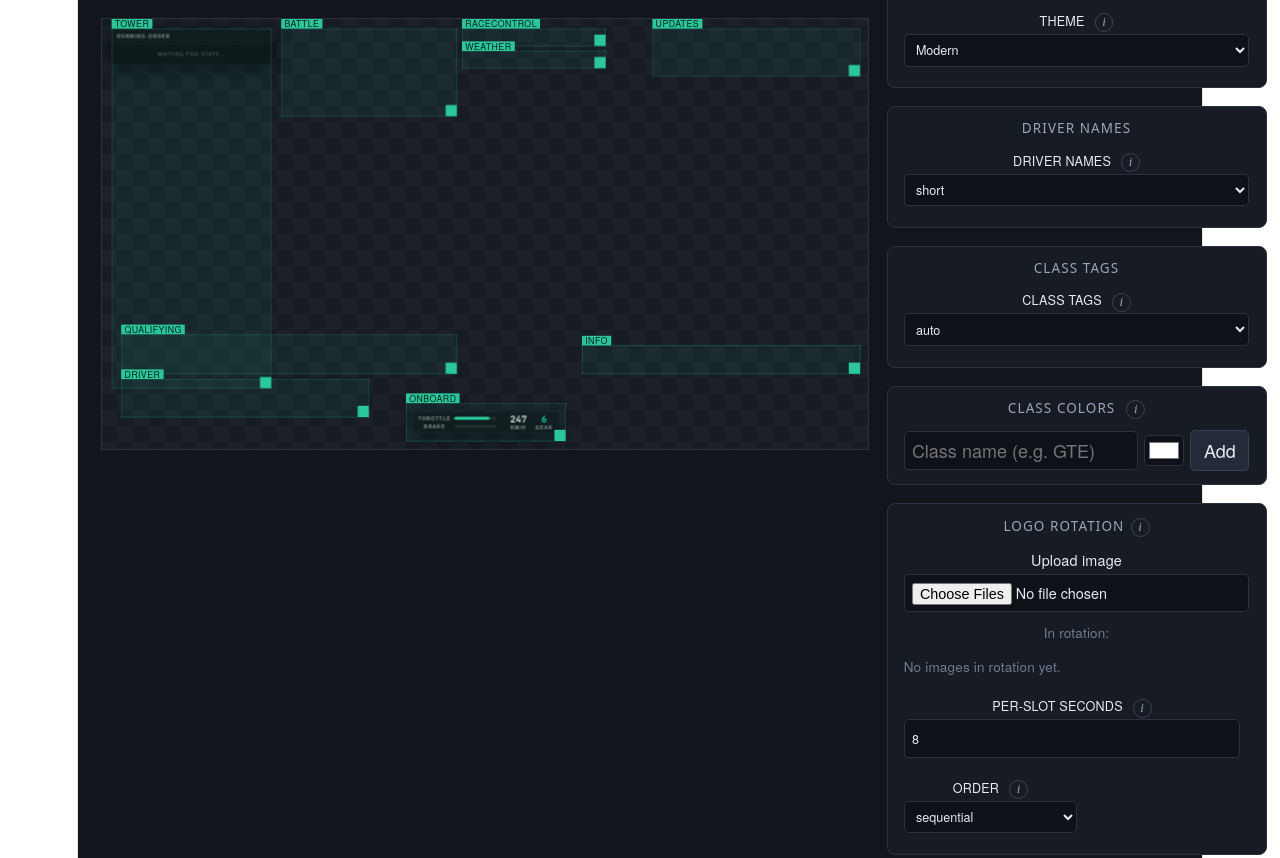
Test: config editor: class color overrides — freeform, no seeded rows › adding a class none of the five curated classes cover produces a row
(page scrolled)
Expected: the colour field with test id "class-color-new-picker" is shown, [1144,435,1184,466]
Expected: the button with test id "class-color-add" showing "Add" is shown, [1190,430,1249,471]
In the field with test id "class-color-new-name": (1021, 450) [904,431,1138,470], type "GTE"
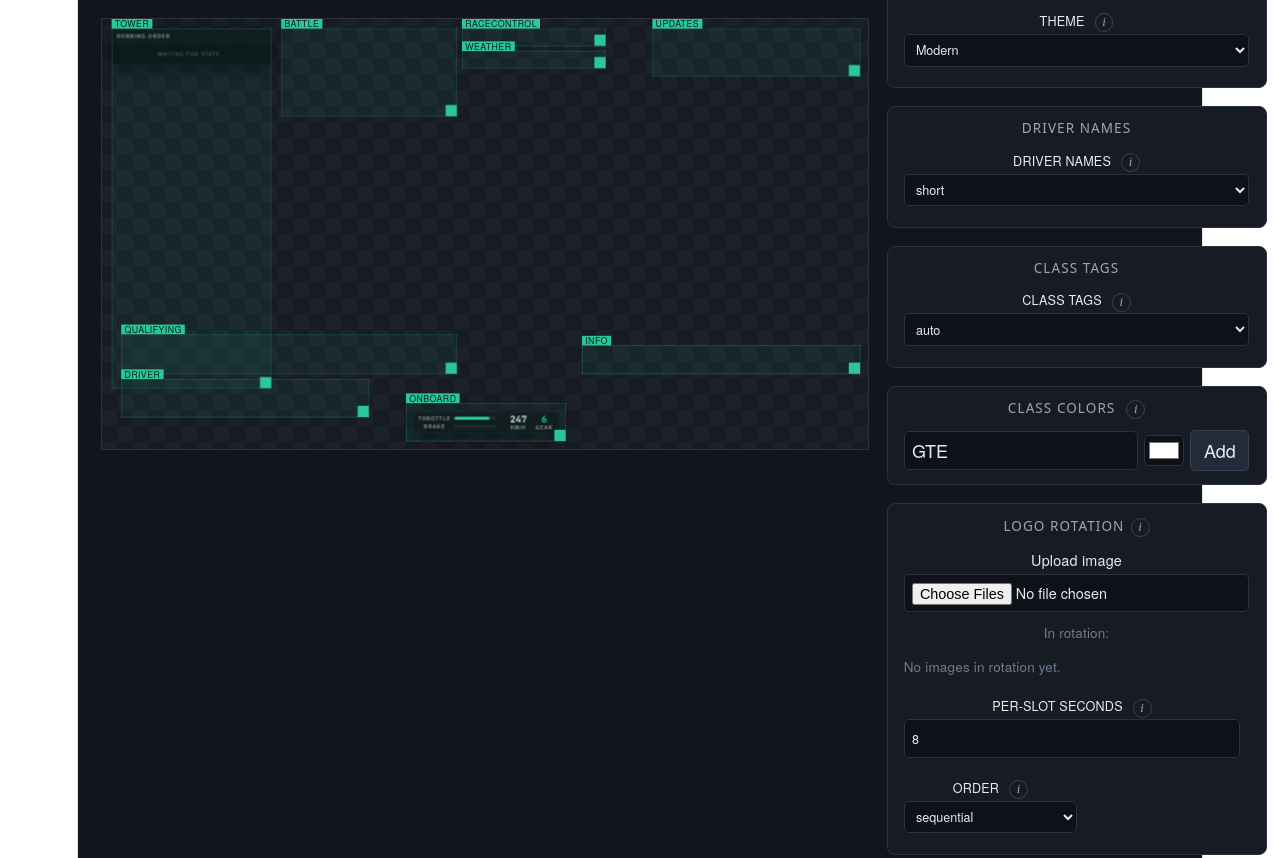
In the colour field with test id "class-color-new-picker": (1164, 450) [1144,435,1184,466], type "#abcdef"
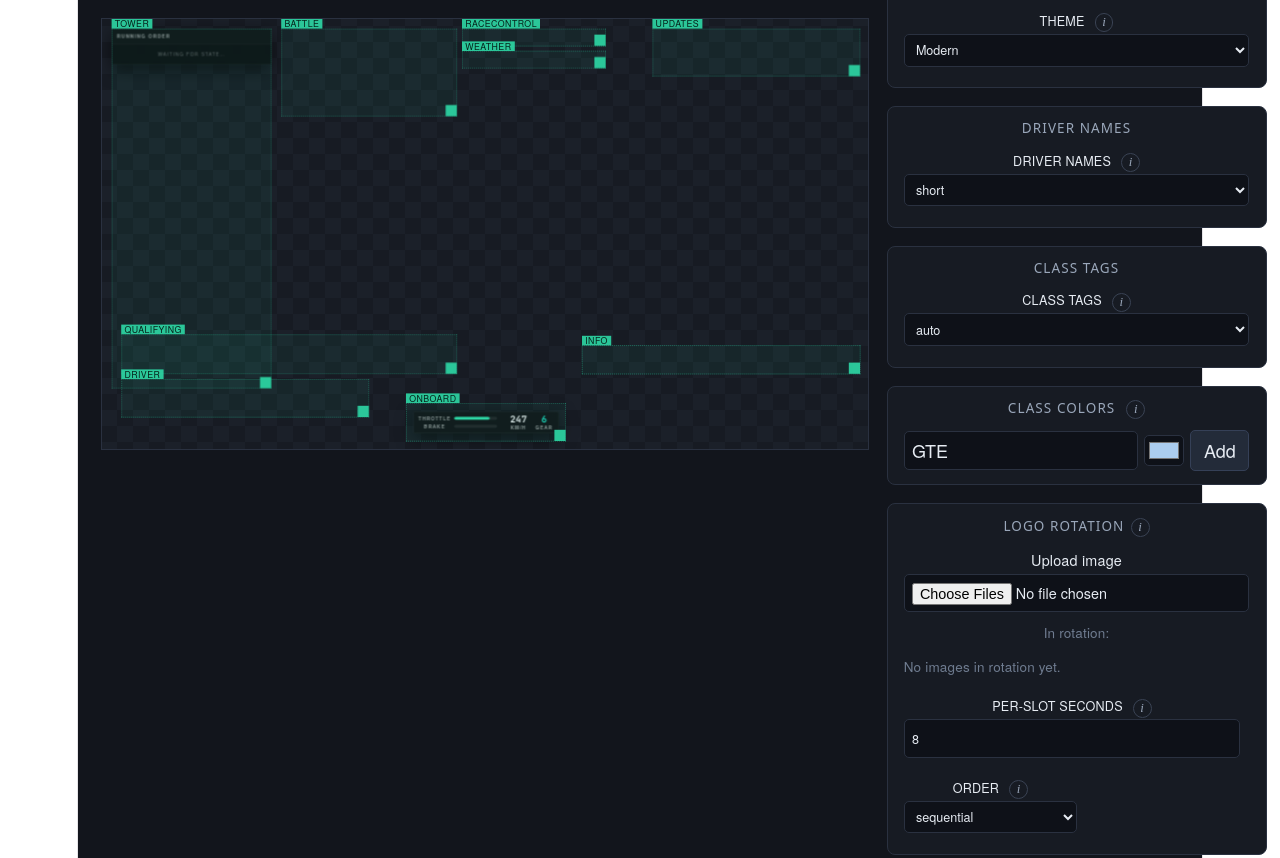
Click the button with test id "class-color-add" showing "Add": click(1220, 450) [1190,430,1249,471]
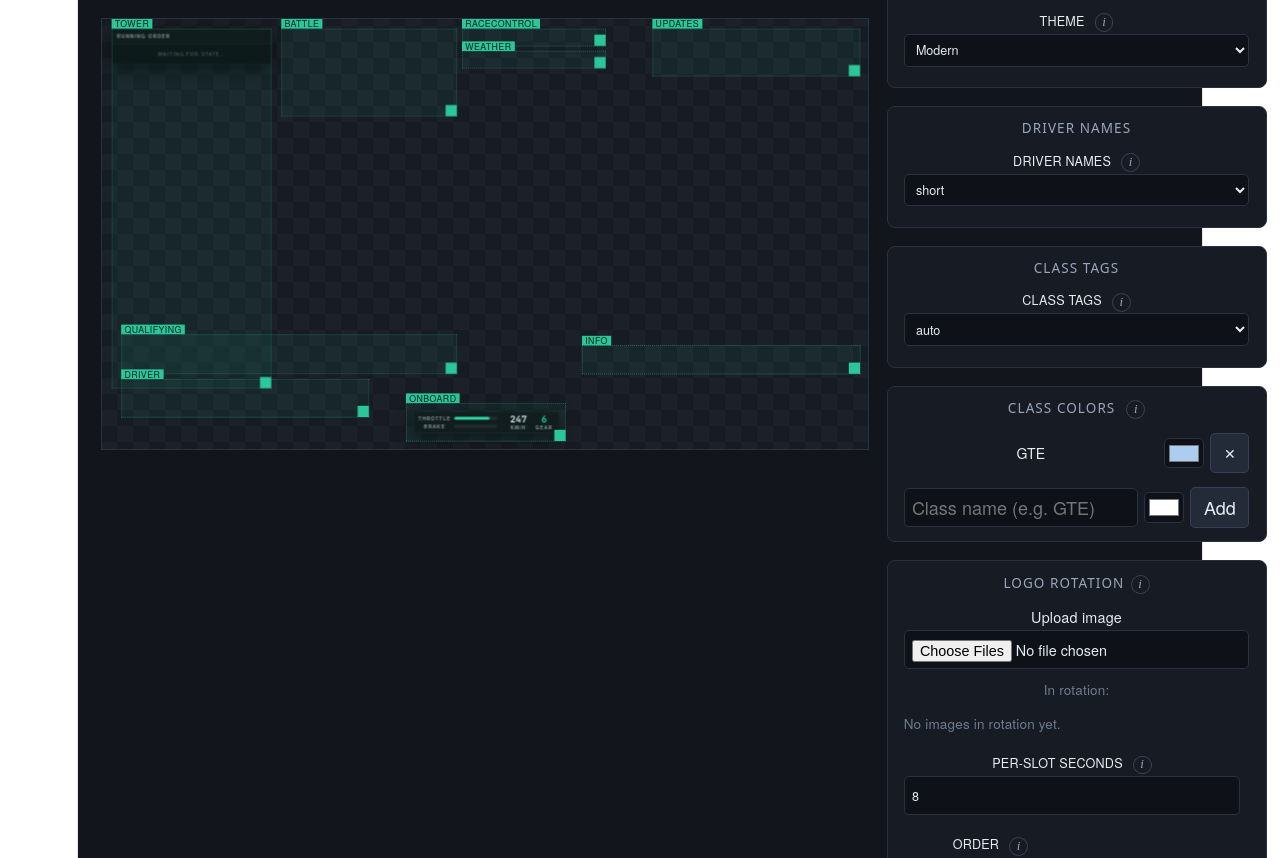
Expected: the list item with test id "class-color-row-gte" is shown, [1016,433,1249,474]
Expected: the list item with test id "class-color-row-gte" shows "GTE", [1016,443,1045,463]
Expected: the colour field with test id "class-color-picker-gte" holds "#abcdef", [1164,438,1204,468]
